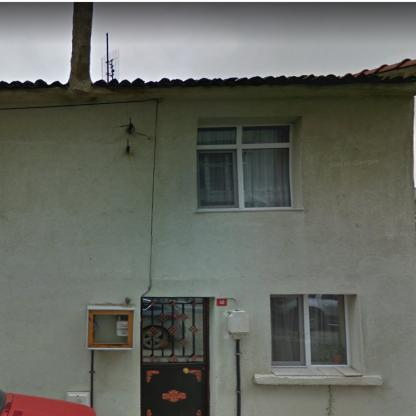door: (140, 297, 209, 415)
window: (198, 125, 294, 209), (272, 295, 348, 365)
